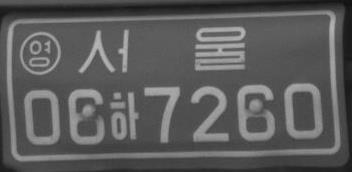0: (282, 81, 323, 140), (23, 88, 60, 146)
2: (190, 84, 229, 142)
6: (236, 84, 276, 142), (68, 87, 105, 145)
7: (143, 85, 181, 143)
서울_D: (77, 25, 246, 74)
영: (19, 30, 61, 74)
하: (109, 91, 139, 141)
